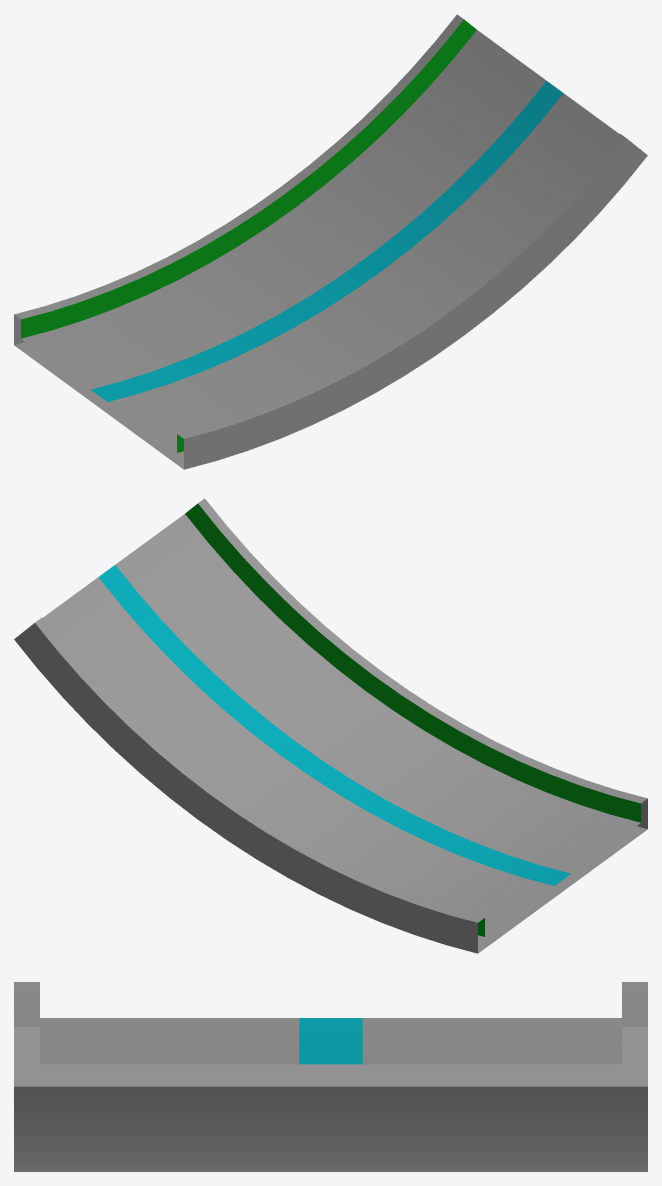
The model's file is mesh_road_ramp_curve_45.FBX.
The picture shows the model from 3 angles, top to bottom: view 1: azimuth 30°, elevation 25°; view 2: azimuth 150°, elevation 25°; view 3: azimuth 270°, elevation 25°; orthographic projection. The views are drawn at different scales.
Visible parts, largest first — view 1: Box001; view 2: Box001; view 3: Box001.
Boxes of the visible parts, x1,y1,x2,y2 form: Box001: [14, 14, 647, 469]; Box001: [14, 498, 647, 953]; Box001: [14, 982, 647, 1171].
Bounding box in the file's own units: 63.02 × 28.93 × 40.
